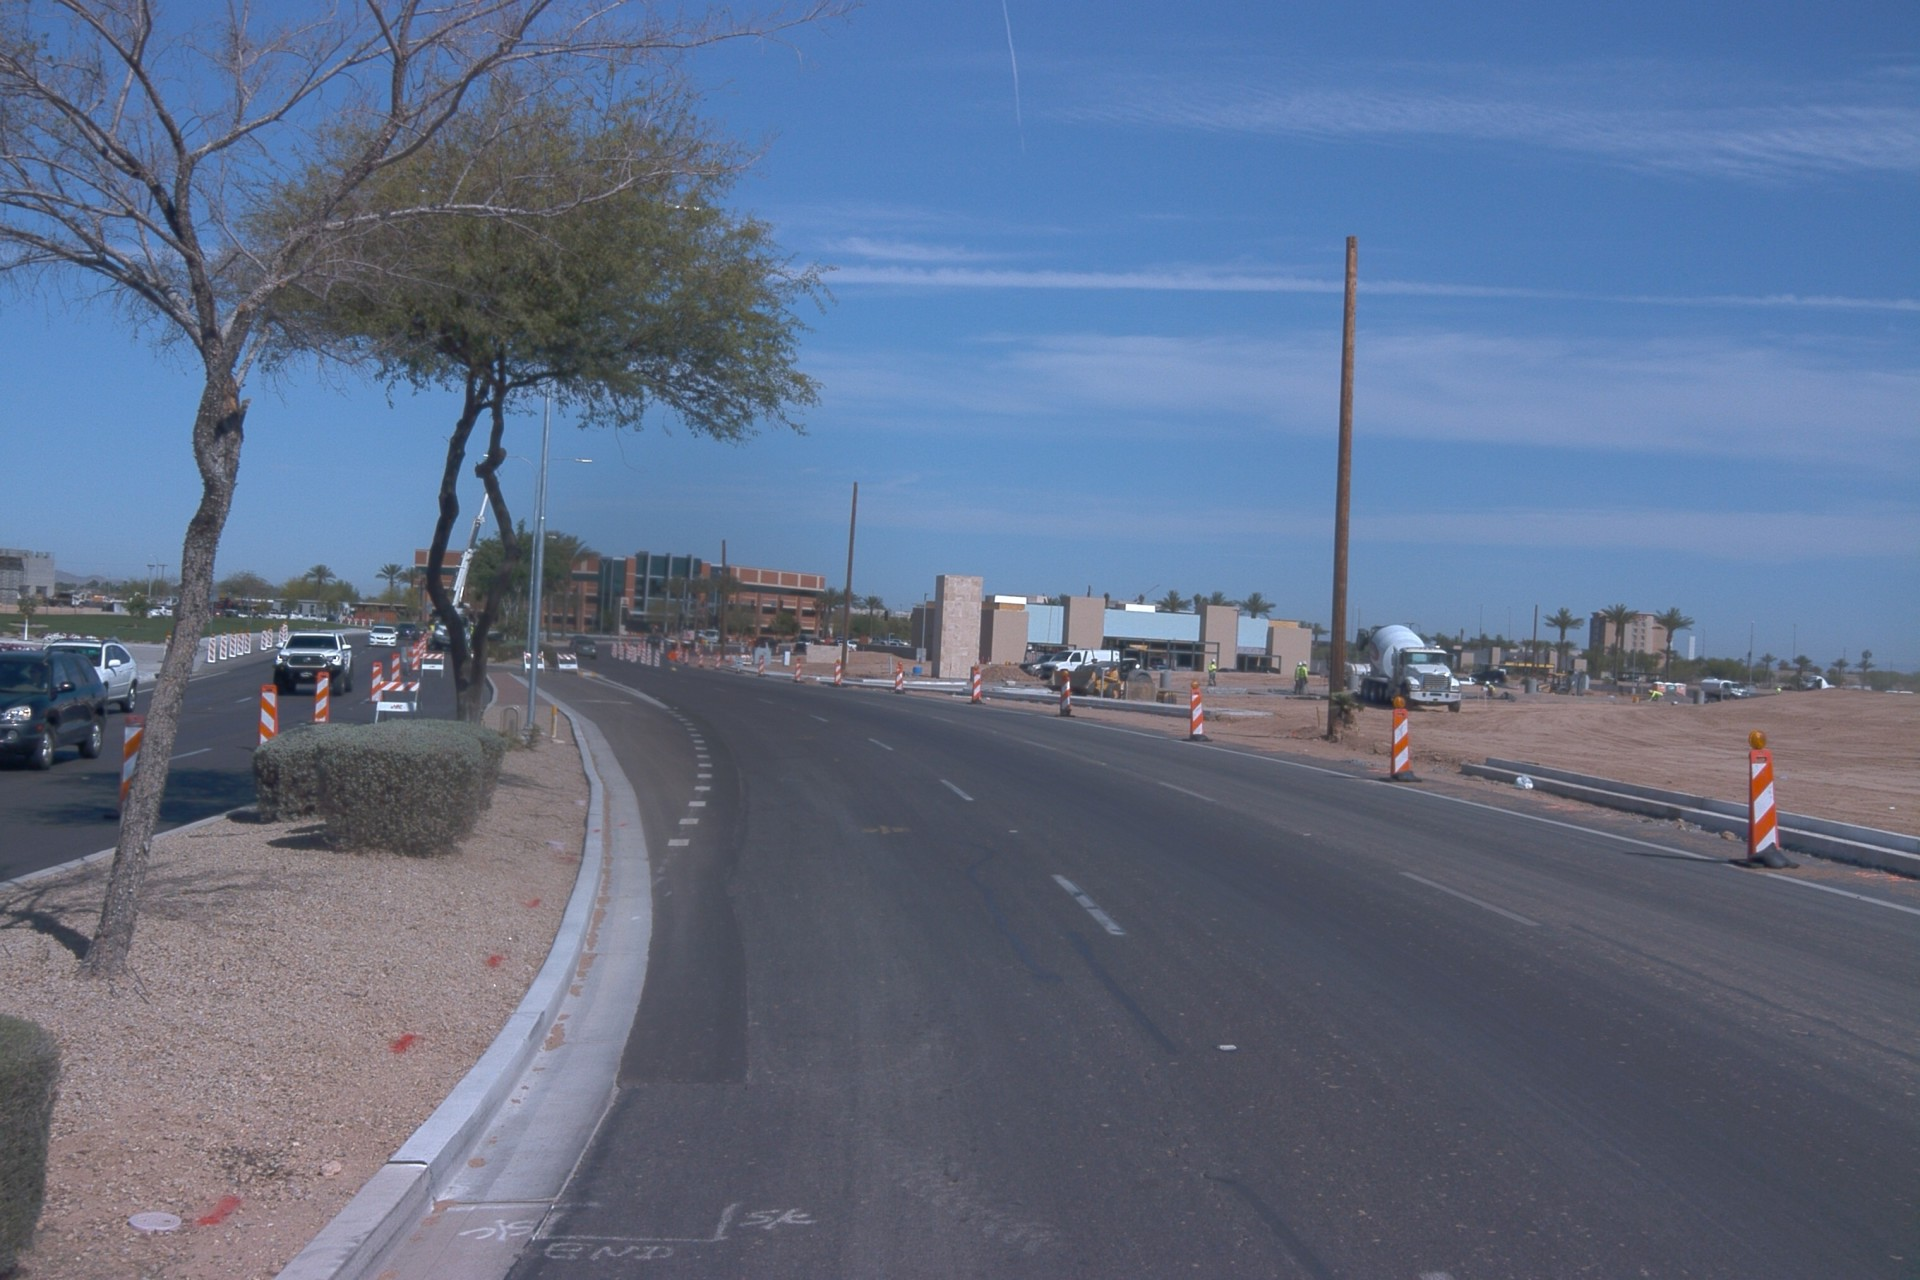TYPE_PEDESTRIAN: (1297, 661, 1309, 697), (1206, 657, 1219, 687), (1292, 661, 1301, 696), (1484, 681, 1497, 698), (469, 620, 475, 640), (705, 637, 710, 649)
TYPE_VEHICLE: (0, 645, 108, 767), (435, 481, 494, 656), (39, 634, 141, 714), (273, 627, 357, 692), (1040, 651, 1122, 682), (617, 615, 654, 661), (1697, 675, 1751, 705), (666, 629, 712, 656), (1018, 655, 1058, 683), (42, 591, 88, 611), (1341, 661, 1373, 686), (1536, 677, 1577, 696), (567, 634, 598, 659), (367, 627, 399, 651), (699, 628, 733, 648), (795, 634, 828, 654), (256, 607, 290, 621), (1122, 654, 1143, 673), (1245, 665, 1280, 676), (568, 632, 590, 649), (155, 605, 176, 619), (398, 623, 417, 638), (1457, 675, 1478, 687), (209, 606, 227, 620), (1885, 688, 1917, 695), (99, 599, 114, 613), (146, 608, 160, 620), (1218, 668, 1239, 674), (696, 631, 706, 643), (1307, 670, 1323, 676)
